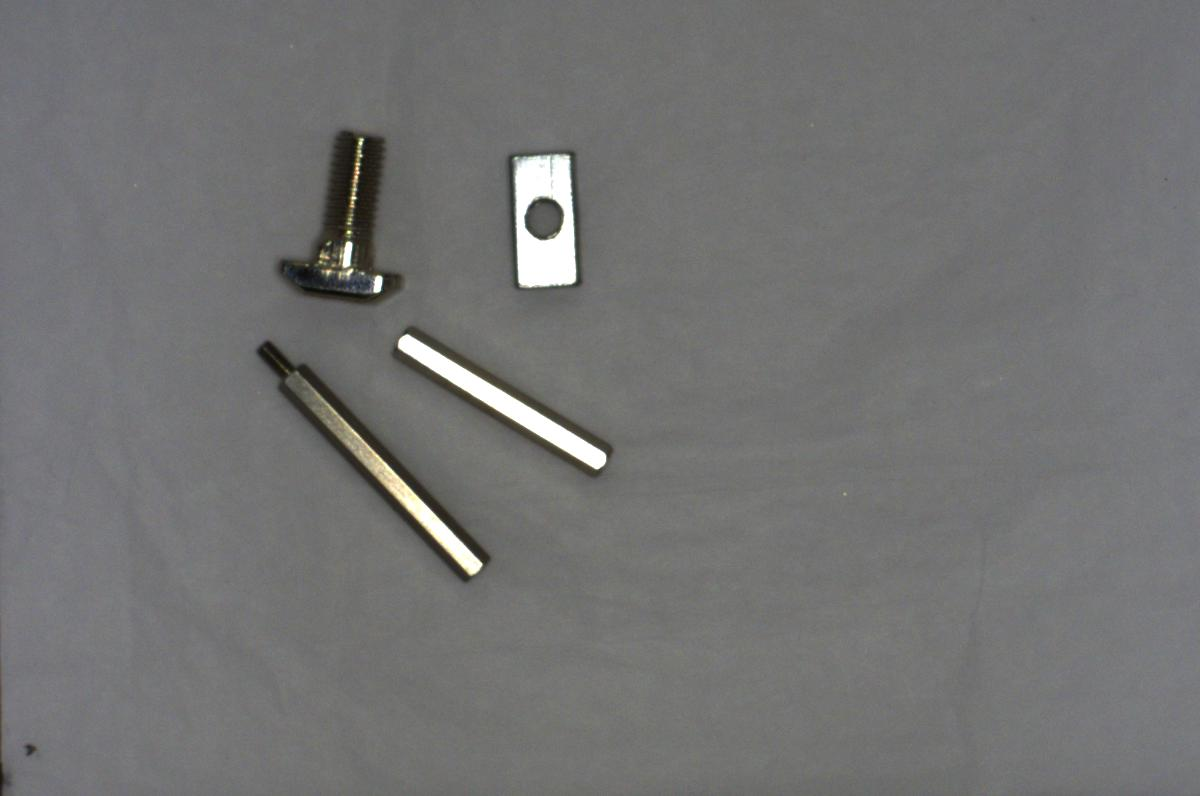Double hexagonal column: (391, 322, 617, 482)
Hexagonal steel column: (253, 333, 493, 588)
Rectangular nut: (505, 139, 591, 295)
T-shaped screw: (268, 126, 410, 313)
